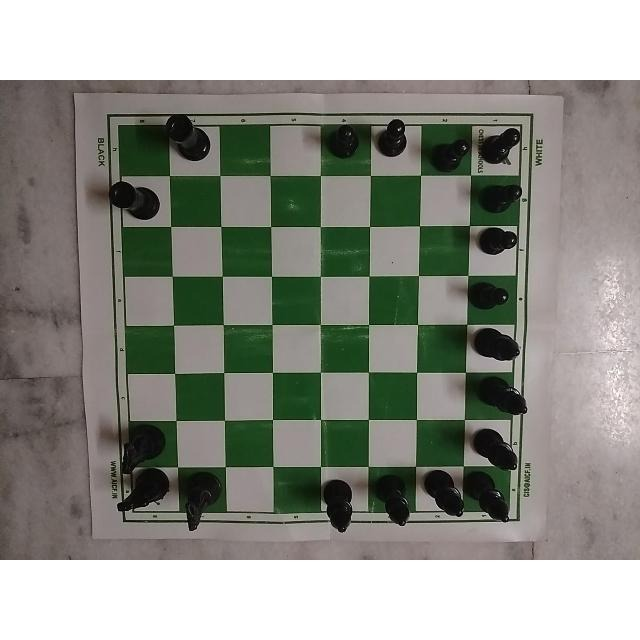black-bishop: (466, 468, 518, 532), (465, 424, 523, 478), (421, 466, 469, 530), (375, 466, 419, 534), (317, 476, 365, 536), (476, 374, 534, 422), (469, 328, 527, 368)
black-knight: (106, 469, 172, 522), (115, 424, 167, 482), (182, 470, 228, 534)
black-pawn: (476, 176, 528, 217), (373, 117, 412, 171), (479, 122, 526, 166), (476, 226, 526, 260), (434, 132, 474, 172), (468, 280, 508, 320), (332, 119, 364, 167)
black-rook: (103, 176, 164, 226), (159, 110, 213, 166)
